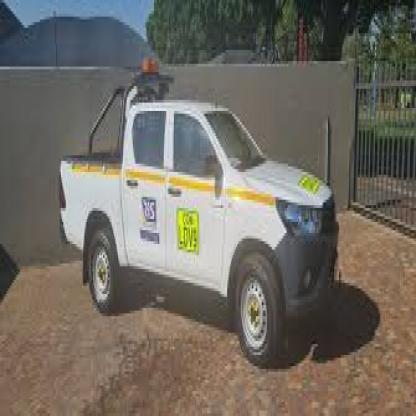light_vehicle: (45, 47, 344, 372)
